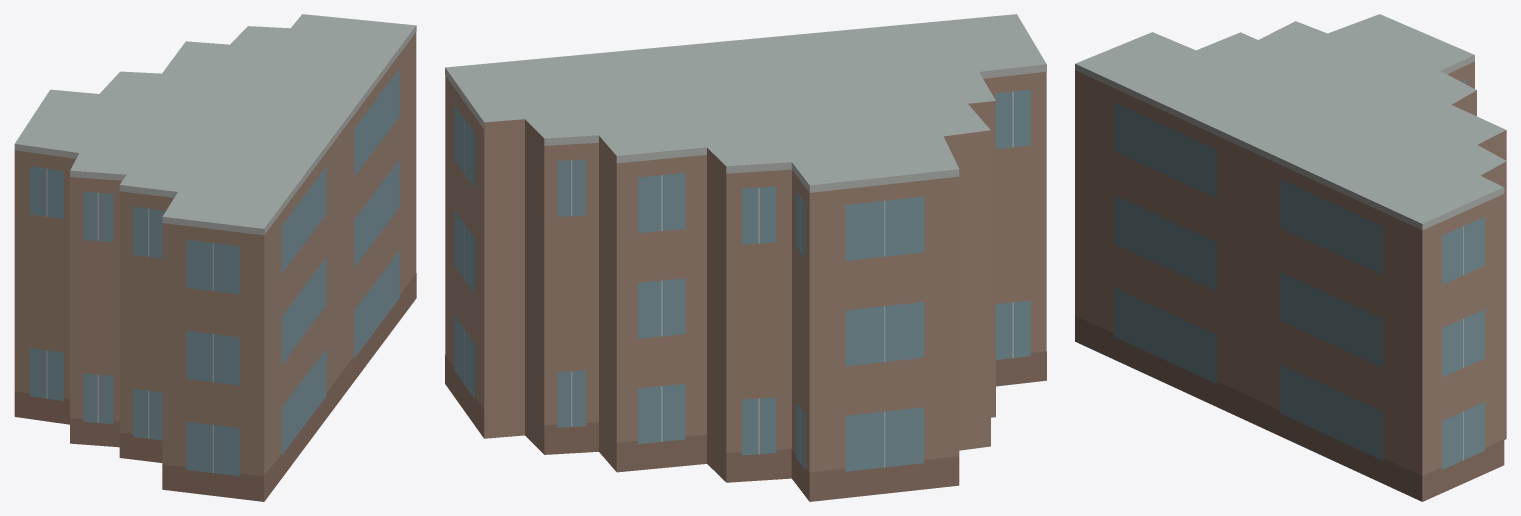
Rendered from survey-upis-32617258.glb.
3 renders of one model, left to right at view 1: azimuth 30°, elevation 25°; view 2: azimuth 150°, elevation 25°; view 3: azimuth 270°, elevation 25°, orthographic. The views are drawn at different scales.
Parts seen in each view (by area): view 1: survey-upis-32617258.tmp; view 2: survey-upis-32617258.tmp; view 3: survey-upis-32617258.tmp.
Part boxes in pixels (<box>): survey-upis-32617258.tmp: <box>14,14,416,501</box>; survey-upis-32617258.tmp: <box>445,14,1046,501</box>; survey-upis-32617258.tmp: <box>1075,14,1506,501</box>.
Bounding box in the file's own units: 17.03 × 10.5 × 14.79.
